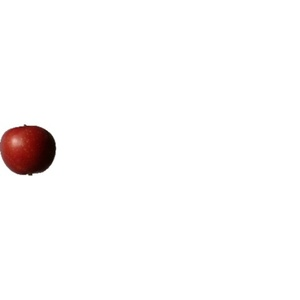maçã braeburn: (3, 121, 56, 178)
